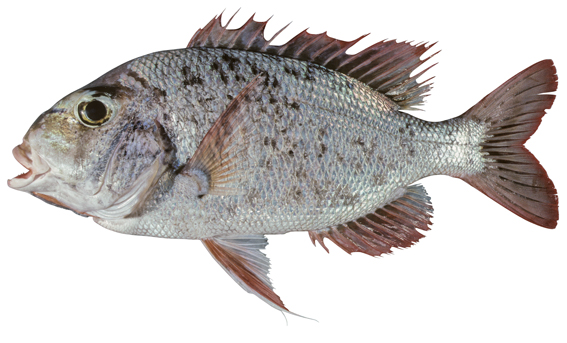fish: (7, 7, 560, 321)
